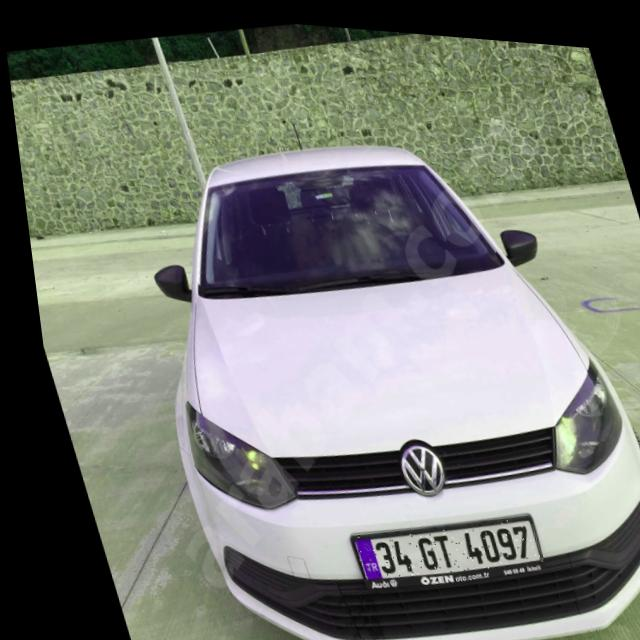license_plate: (334, 498, 533, 587)
